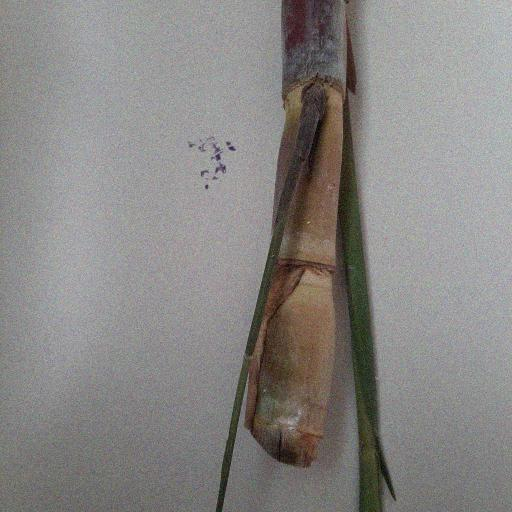Sprouted_Bud: (294, 81, 327, 154)
